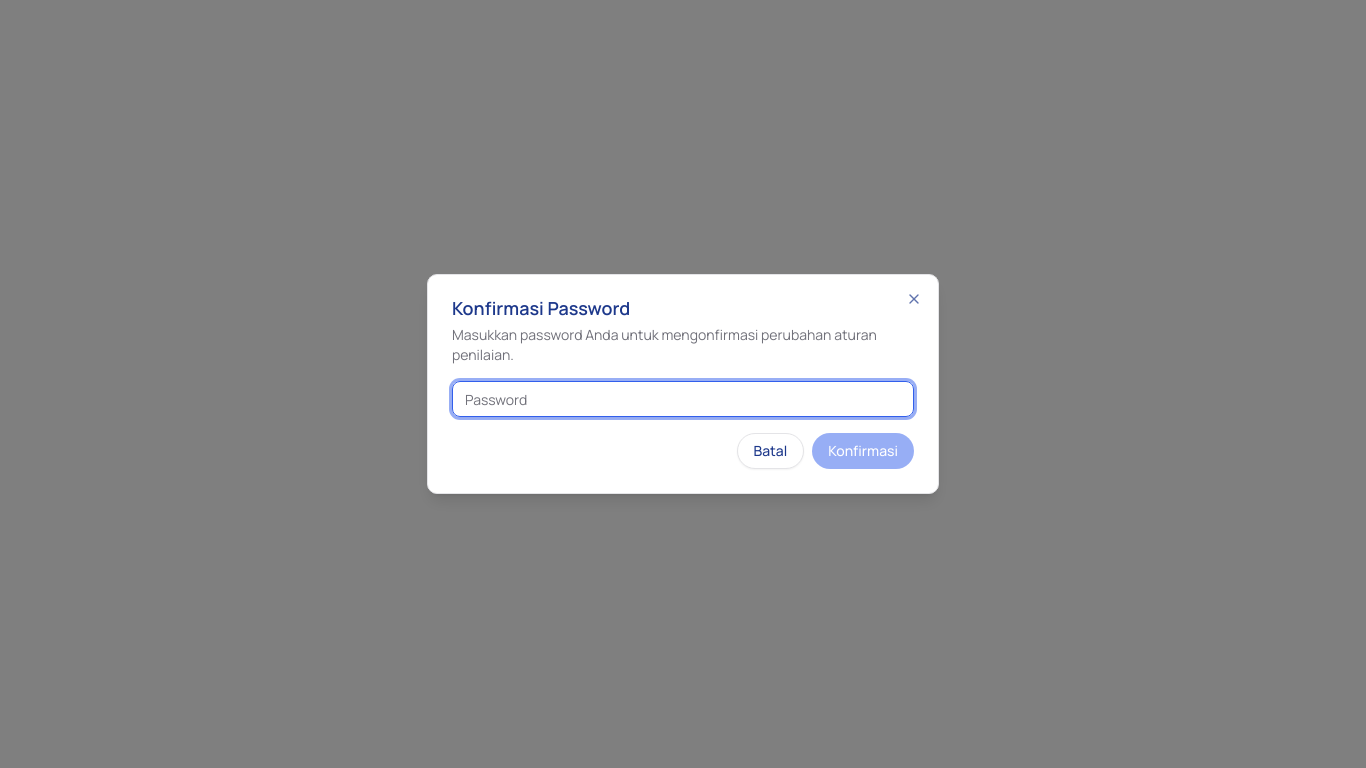
Test case: PasswordConfirmDialog › shows error on incorrect password
Type "wrongpassword" into the password field labelled "Password". click: (683, 399)
box: x1=452 y1=381 x2=914 y2=417
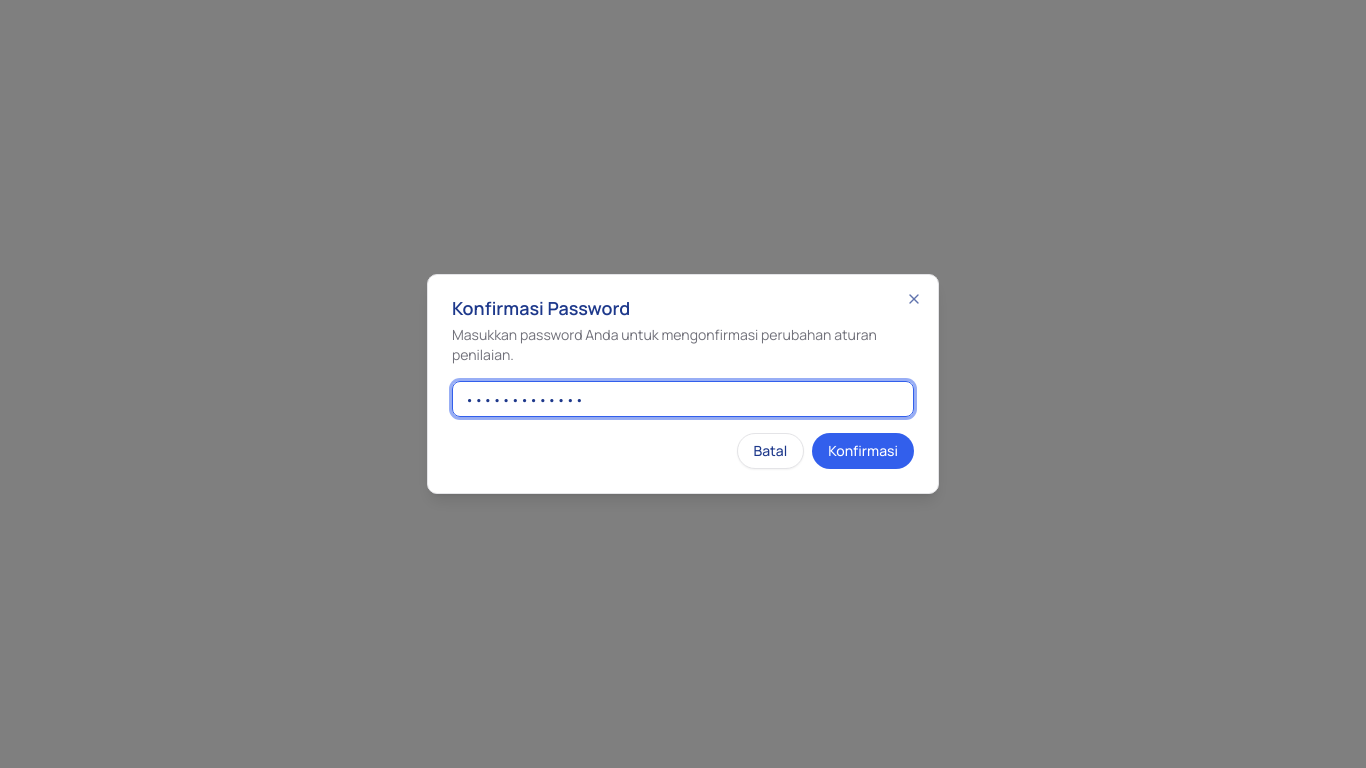
Click the button "Konfirmasi". click: click(863, 451)
box: x1=812 y1=433 x2=914 y2=469
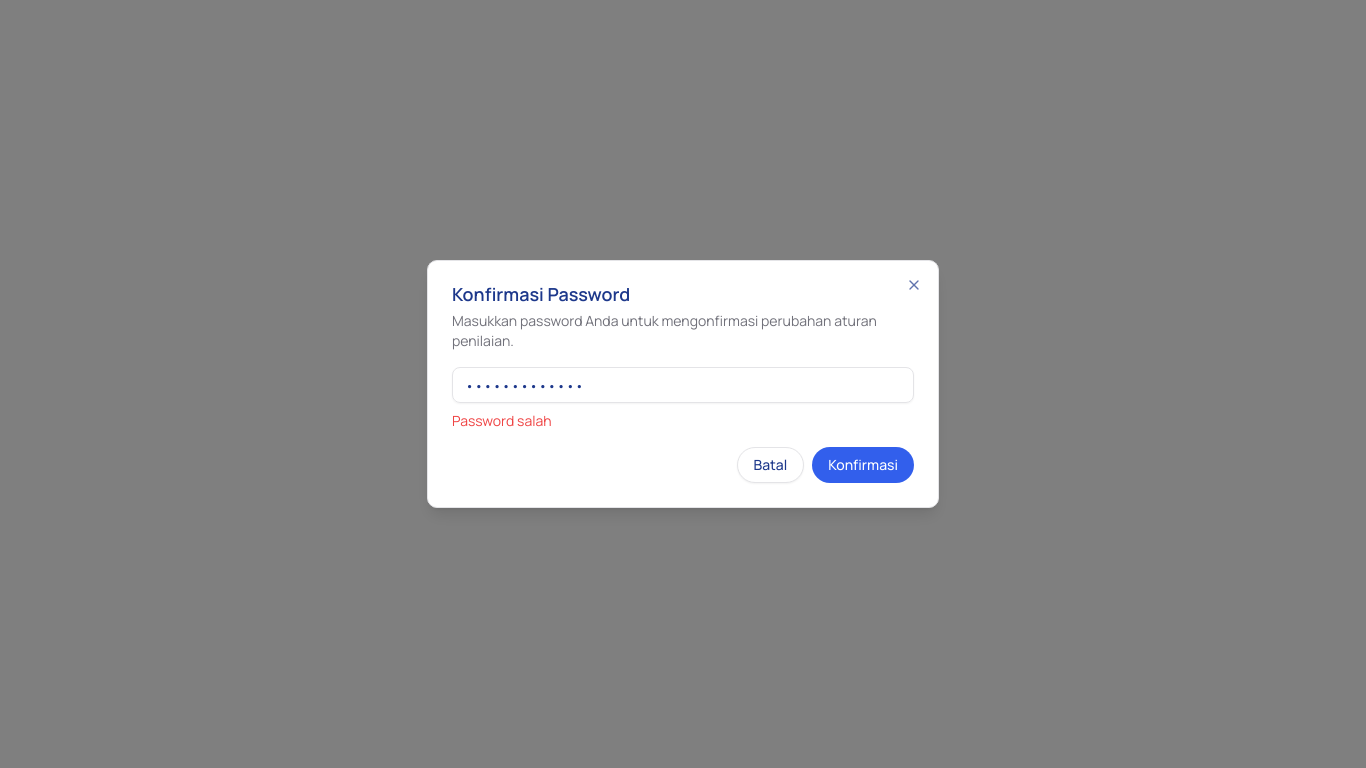
Expected: the text "Password salah" is shown, x1=452 y1=411 x2=552 y2=430
